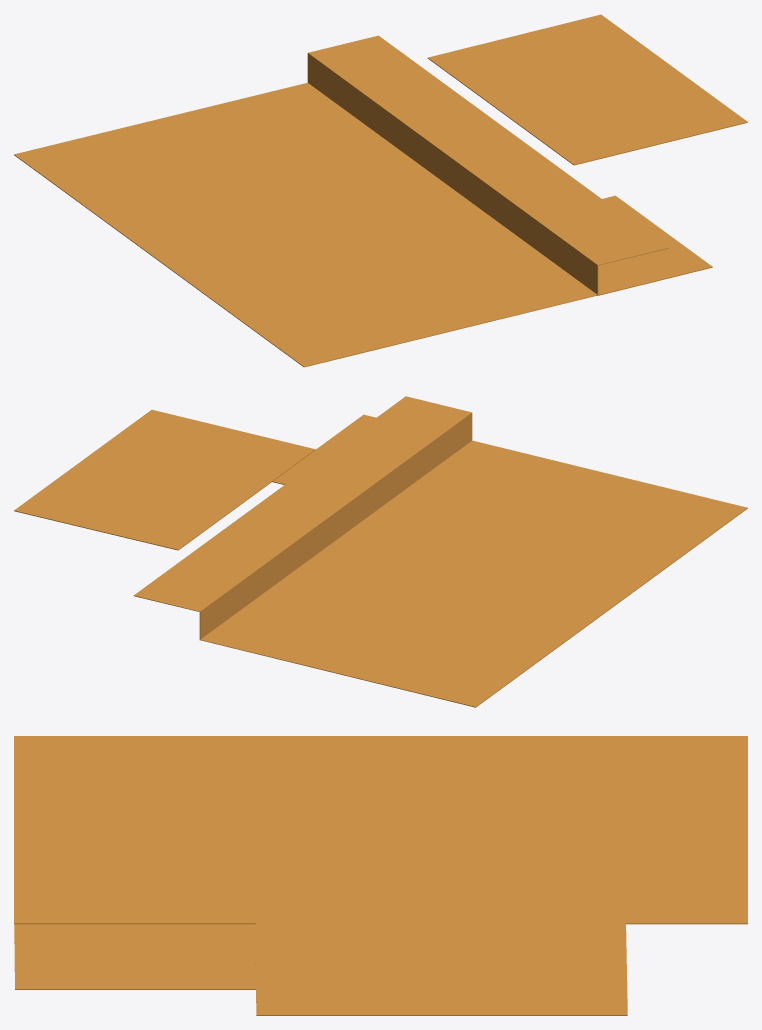
File: techo_rooms-v2.glb
The picture shows the model from 3 angles, top to bottom: view 1: azimuth 30°, elevation 25°; view 2: azimuth 150°, elevation 25°; view 3: azimuth 270°, elevation 25°; orthographic projection. The views are drawn at different scales.
Visible parts, largest first — view 1: Plane.021; view 2: Plane.021; view 3: Plane.021.
Part boxes in pixels (x1,y1,x2,y2): Plane.021: [14, 14, 747, 367]; Plane.021: [14, 396, 747, 707]; Plane.021: [14, 736, 747, 1015].
Size of the model in its own units: 259 by 20.23 by 241.
